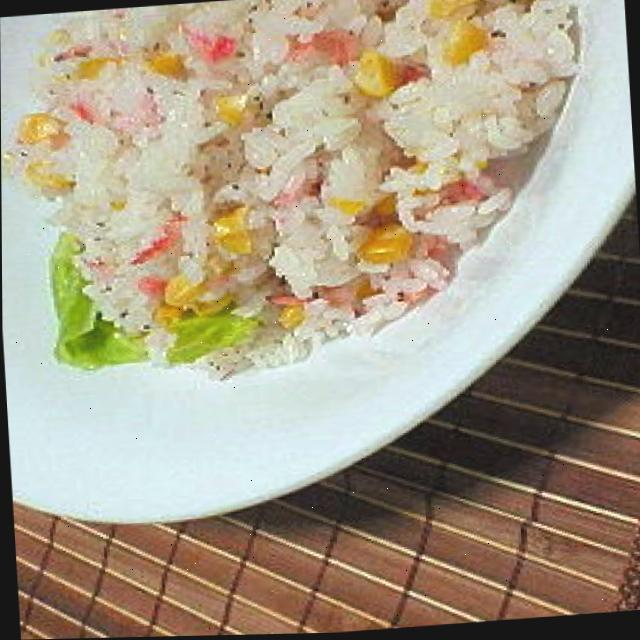米饭主食: (0, 0, 640, 533)
